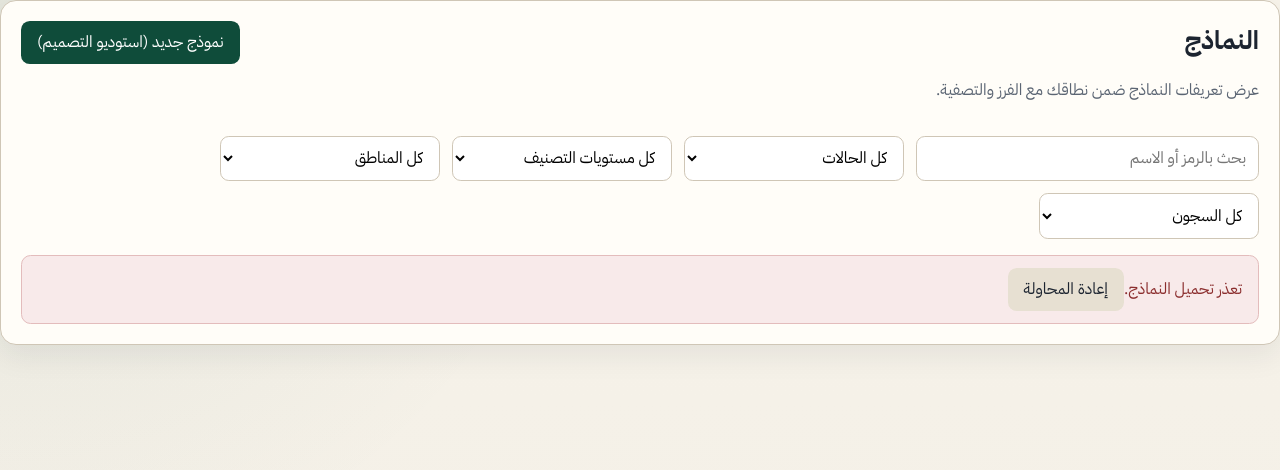
Scenario: FormsListPage › shows an error with retry on API failure
The width and height of the screenshot is (1280, 470).
Expected: the message shows "تعذر تحميل النماذج.", [1124,276,1242,300]
Click the button "إعادة المحاولة".
click(1066, 289)  # box [1008,268,1124,311]
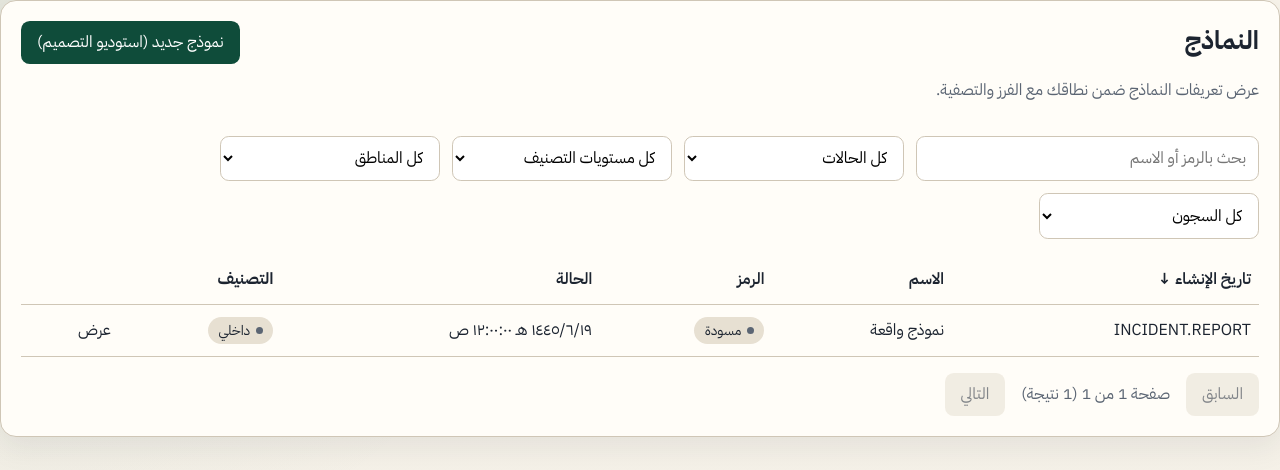
Result: the text "INCIDENT.REPORT" is shown at [952,305,1259,356]
